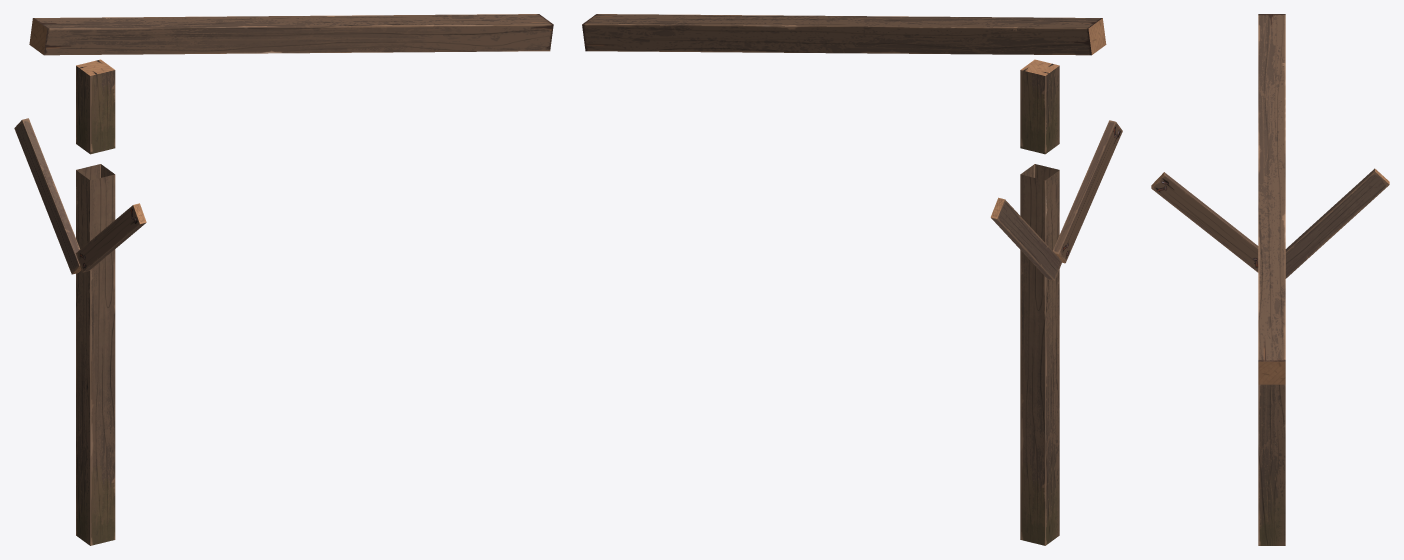
Rendered from wall02_pillar_B.fbx.
3 renders of one model, left to right at view 1: azimuth 30°, elevation 25°; view 2: azimuth 150°, elevation 25°; view 3: azimuth 270°, elevation 25°, orthographic. The views are drawn at different scales.
Parts seen in each view (by area): view 1: wall02_pillar_B; view 2: wall02_pillar_B; view 3: wall02_pillar_B.
Part boxes in pixels (<box>): wall02_pillar_B: <box>14,14,553,545</box>; wall02_pillar_B: <box>582,14,1122,545</box>; wall02_pillar_B: <box>1151,14,1389,545</box>.
Bounding box in the file's own units: 409 × 404 × 175.
